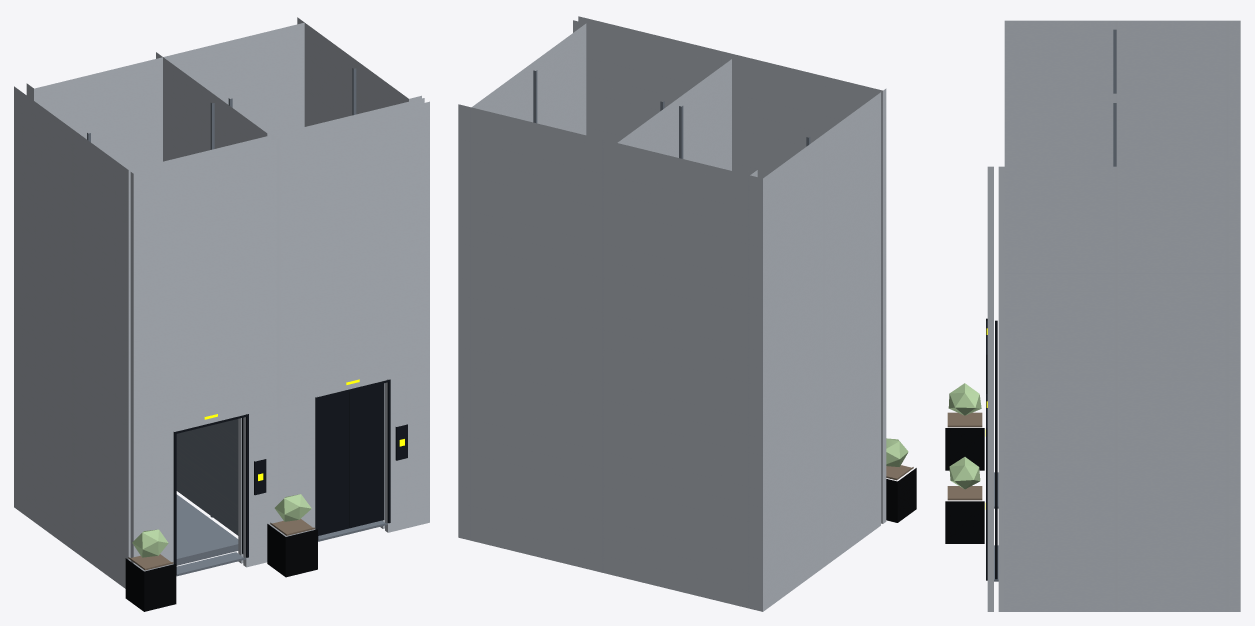
File: v1_lift.glb
The picture shows the model from 3 angles, left to right: view 1: azimuth 30°, elevation 25°; view 2: azimuth 150°, elevation 25°; view 3: azimuth 270°, elevation 25°; orthographic projection. The views are drawn at different scales.
Parts seen in each view (by area): view 1: Door_Wall, Shaft_Walls, Landing_Doors, Lift_Car, Planter_Trough, Door_Jambs, Foliage, Sills, Planter_Soil, Call_Panels; view 2: Shaft_Walls, Door_Wall, Planter_Trough, Guide_Rails; view 3: Shaft_Walls, Door_Wall, Planter_Trough, Foliage, Planter_Soil, Landing_Doors, Guide_Rails, Door_Jambs.
Boxes of the visible parts, left/top/right/bottom form: Door_Wall: left=125, top=98, right=429, bottom=571; Shaft_Walls: left=14, top=17, right=421, bottom=588; Landing_Doors: left=242, top=383, right=384, bottom=553; Lift_Car: left=176, top=419, right=238, bottom=565; Planter_Trough: left=125, top=524, right=317, bottom=611; Door_Jambs: left=173, top=379, right=390, bottom=574; Foliage: left=132, top=494, right=311, bottom=557; Sills: left=176, top=520, right=387, bottom=576; Planter_Soil: left=128, top=519, right=314, bottom=570; Call_Panels: left=254, top=424, right=407, bottom=495; Shaft_Walls: left=458, top=23, right=877, bottom=611; Door_Wall: left=573, top=16, right=886, bottom=527; Planter_Trough: left=886, top=468, right=916, bottom=522; Guide_Rails: left=533, top=70, right=810, bottom=158; Shaft_Walls: left=1004, top=20, right=1240, bottom=611; Door_Wall: left=987, top=166, right=1004, bottom=611; Planter_Trough: left=945, top=428, right=984, bottom=543; Foliage: left=948, top=383, right=981, bottom=489; Planter_Soil: left=947, top=412, right=982, bottom=500; Landing_Doors: left=995, top=320, right=997, bottom=579; Guide_Rails: left=1113, top=29, right=1116, bottom=166; Door_Jambs: left=986, top=318, right=987, bottom=580.
Bounding box in the file's own units: 4.75 × 6.25 × 3.76.
Materials: 7 (4 with a texture image).
